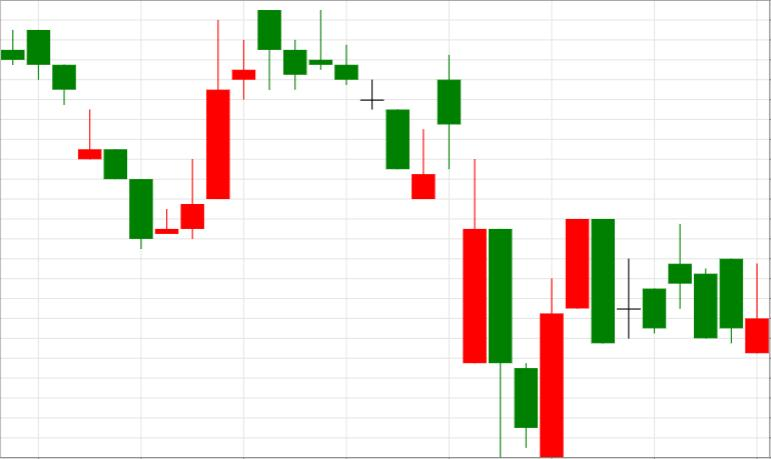bullish_engulfing_rise: (437, 55, 564, 456)
